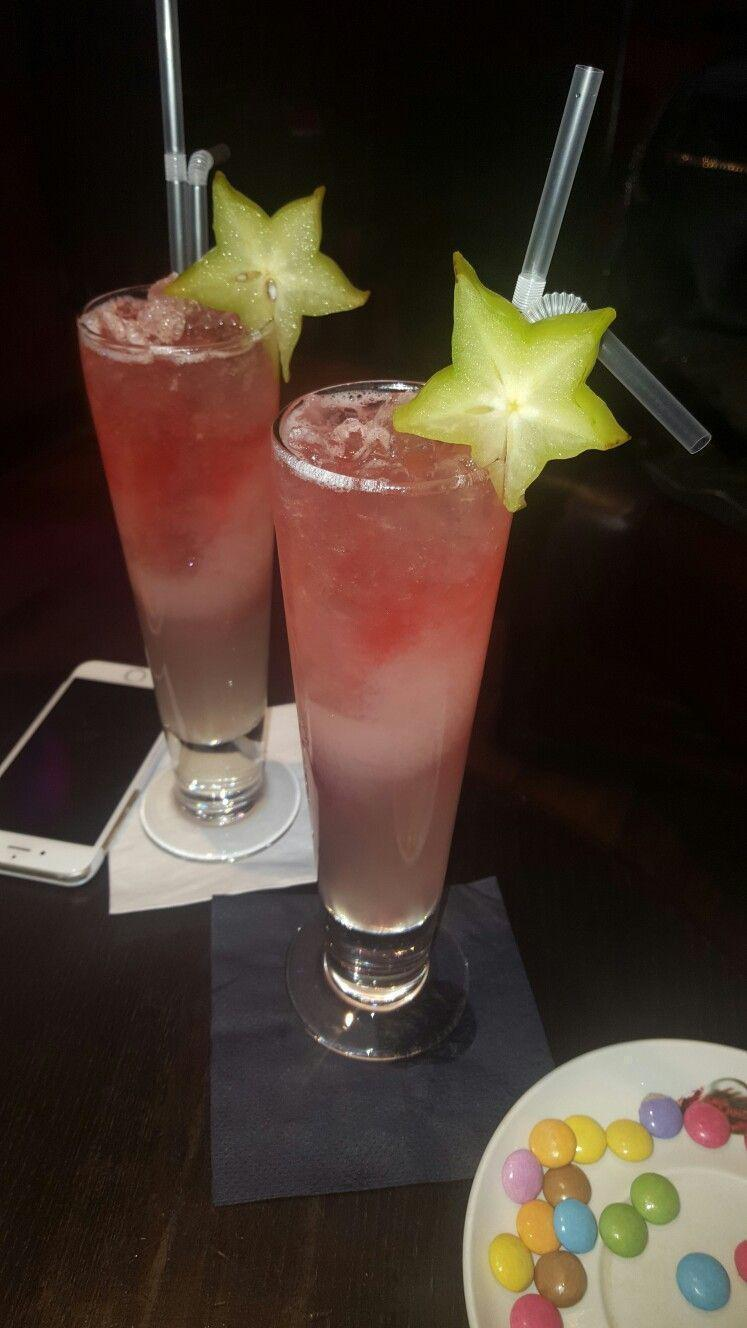glass-wine: (267, 377, 515, 1061), (72, 278, 295, 857)
